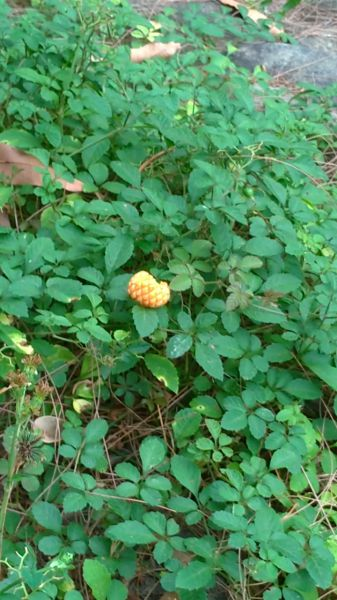eggs: (125, 266, 173, 313)
